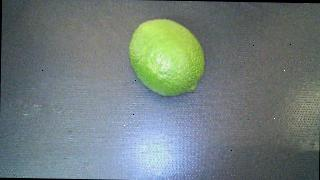EXPORTACION: (128, 18, 205, 96)
